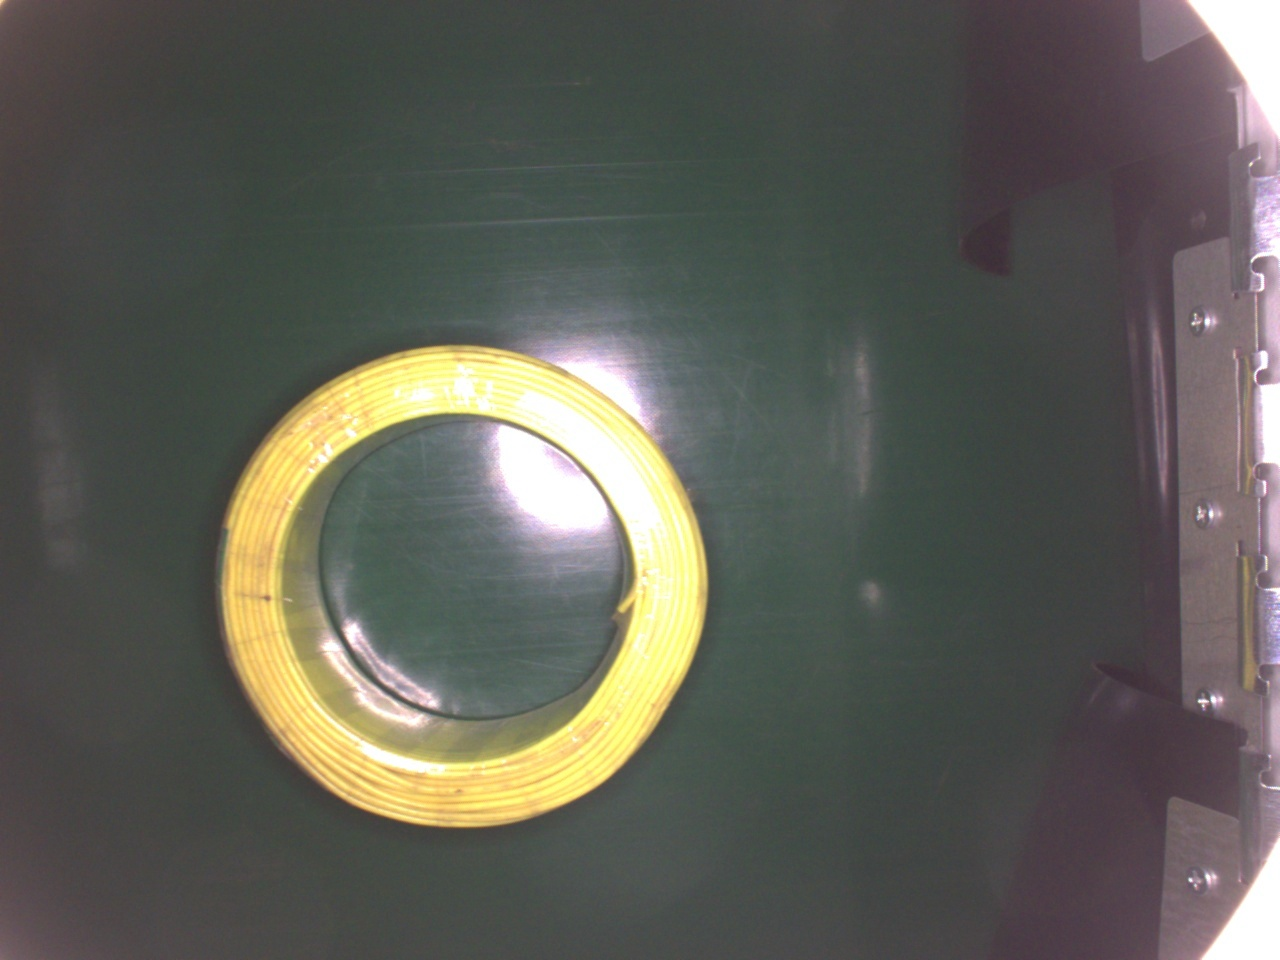yellow: (215, 342, 706, 833)
